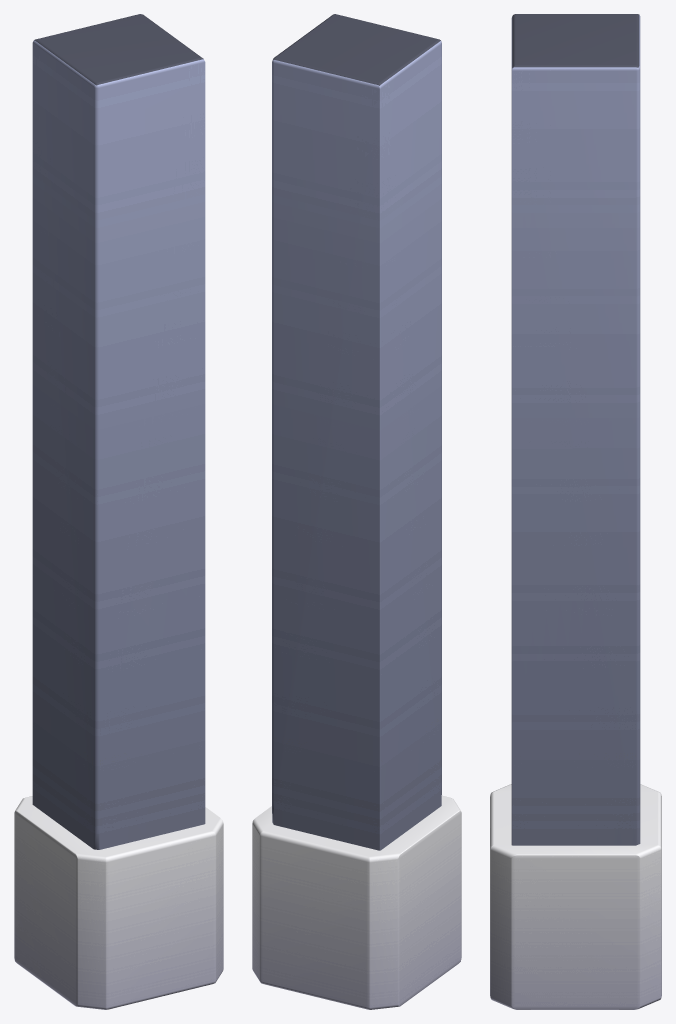
File: column-thin.glb
3 views of the same model, side by side, from view 1: azimuth 30°, elevation 25°; view 2: azimuth 150°, elevation 25°; view 3: azimuth 270°, elevation 25° (orthographic).
Visible parts, largest first — view 1: column-thin; view 2: column-thin; view 3: column-thin.
Part boxes in pixels (x1=…): column-thin: x1=14, y1=14, x2=223, y2=1009; column-thin: x1=252, y1=14, x2=461, y2=1009; column-thin: x1=490, y1=14, x2=661, y2=1009.
Bounding box in the file's own units: 0.4 × 2.4 × 0.4.
Materials: 1 (1 with a texture image).
